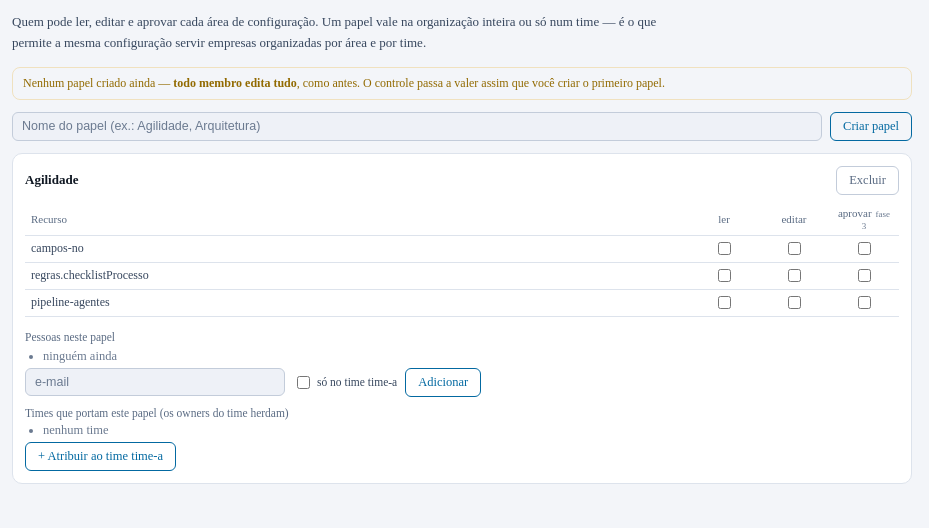
AcessosTab (SPEC-28 Fase 2) › erro do servidor aparece na tela, não some
This screenshot has width=929, height=528.
Click the checkbox named "Agilidade: editar campos-no".
click(794, 248)  # box [788,242,801,255]
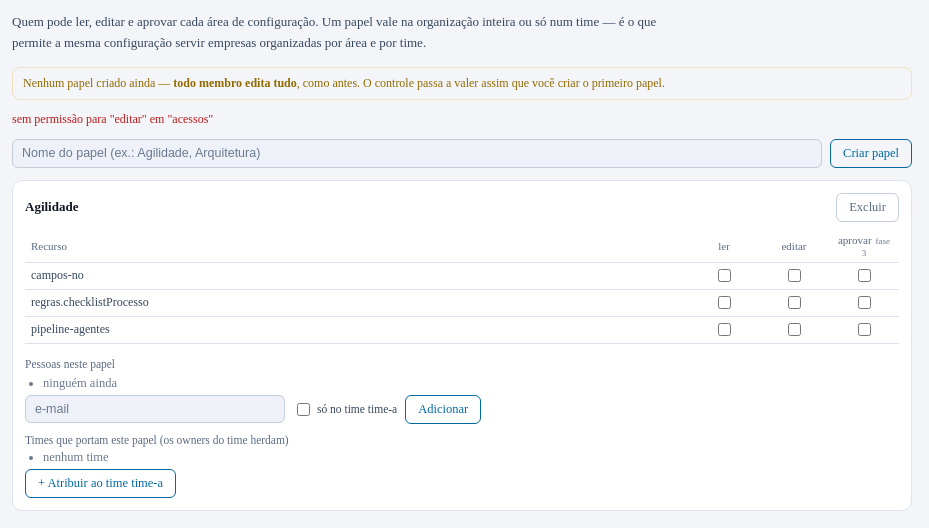
expect the text "sem permissão para \"editar\" em \"acessos\"" is shown: met, box [12,112,213,126]
